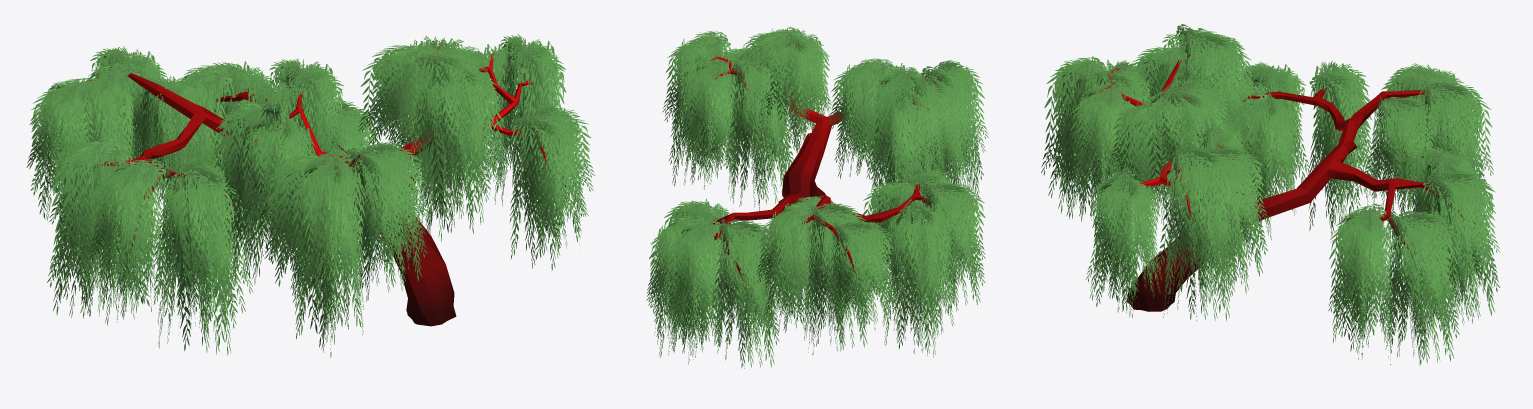
The model's file is PT_Weeping_Willow_Tree_03_green_cut.fbx.
The picture shows the model from 3 angles, left to right: view 1: azimuth 30°, elevation 25°; view 2: azimuth 150°, elevation 25°; view 3: azimuth 270°, elevation 25°; orthographic projection. The views are drawn at different scales.
Parts seen in each view (by area): view 1: PT_Weeping_Willow_Tree_03_green_cut; view 2: PT_Weeping_Willow_Tree_03_green_cut; view 3: PT_Weeping_Willow_Tree_03_green_cut.
Boxes of the visible parts, <box> form: PT_Weeping_Willow_Tree_03_green_cut: <box>26,34,594,357</box>; PT_Weeping_Willow_Tree_03_green_cut: <box>646,26,988,368</box>; PT_Weeping_Willow_Tree_03_green_cut: <box>1041,24,1500,365</box>.
Bounding box in the file's own units: 1172 × 806 × 1215.
